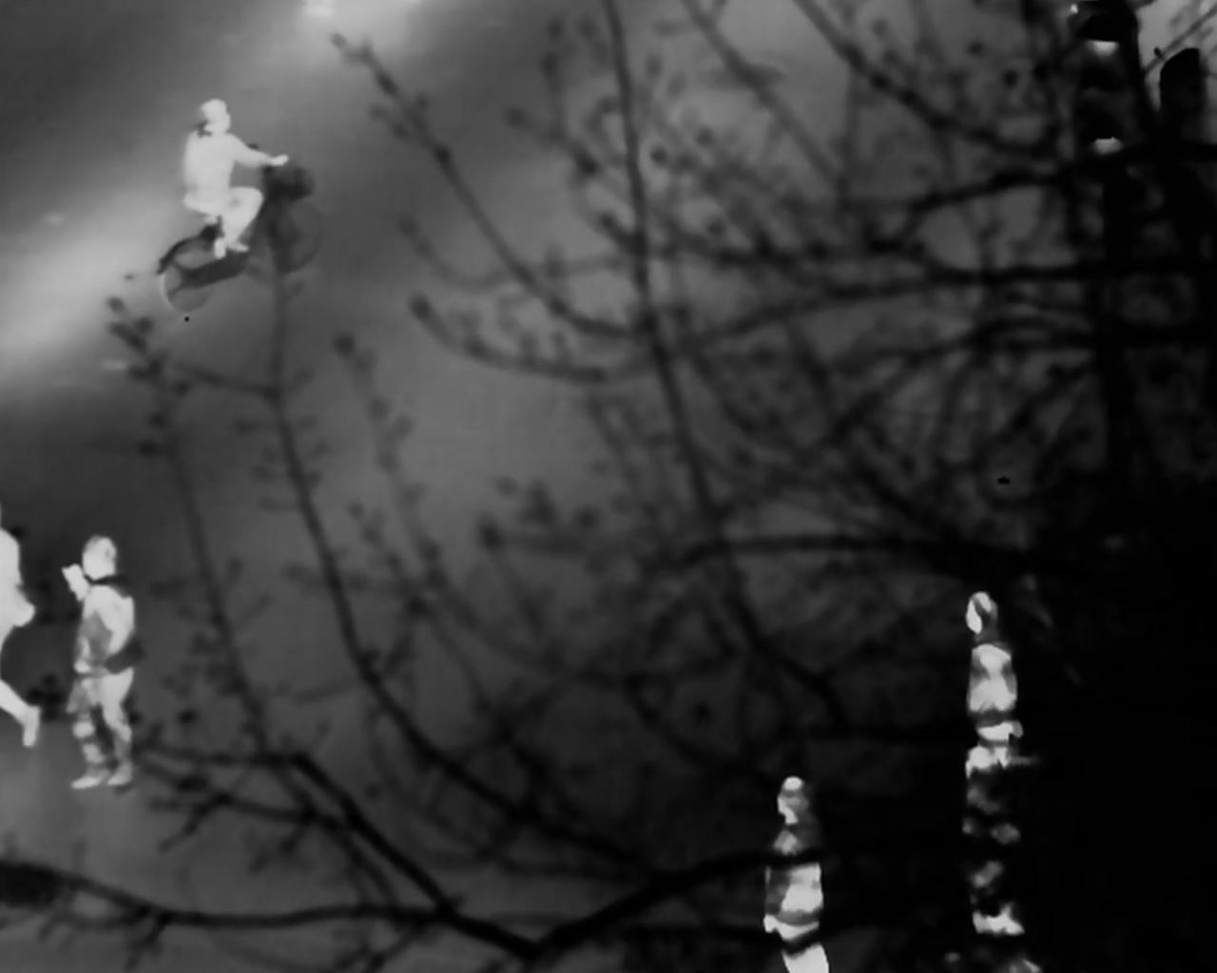person: (59, 550, 145, 783), (179, 91, 277, 272), (765, 771, 838, 973), (962, 723, 1027, 935), (963, 590, 1021, 743)
